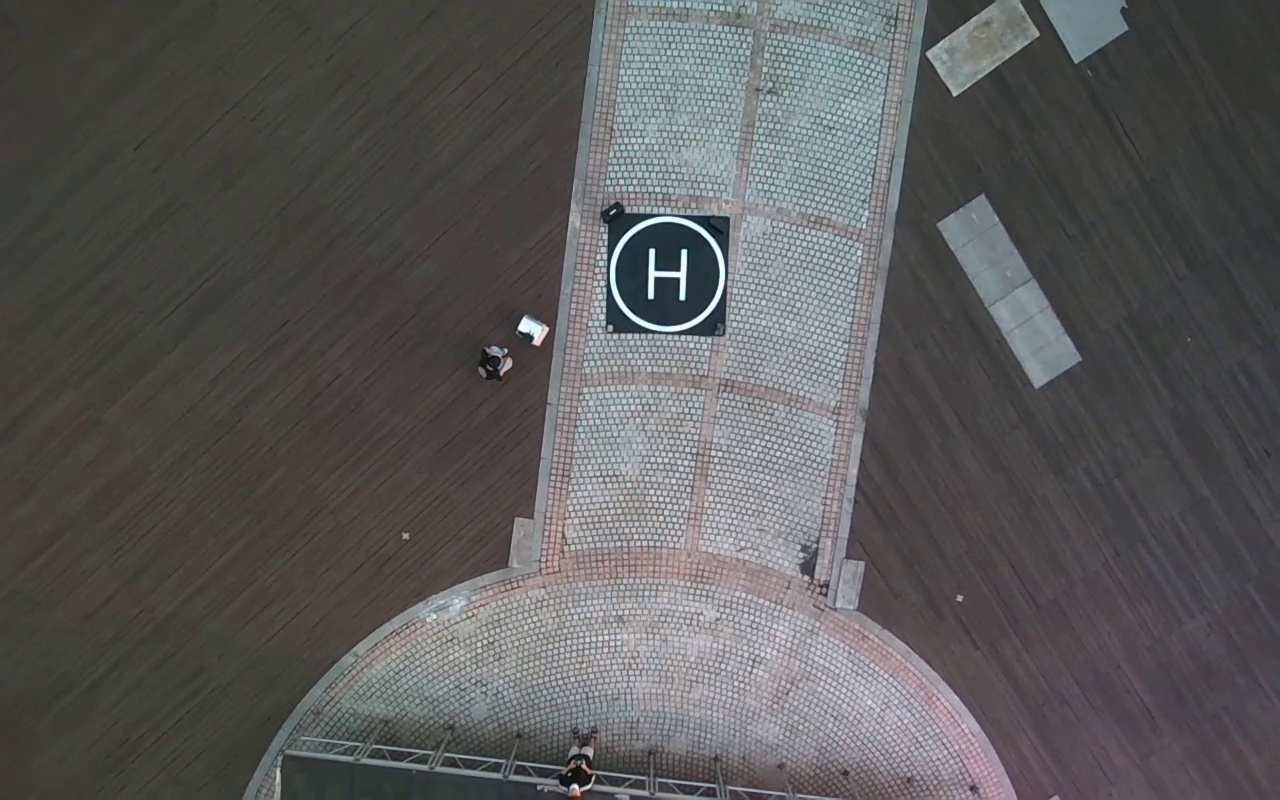H: (646, 245, 687, 302)
heliport: (608, 213, 725, 333)
